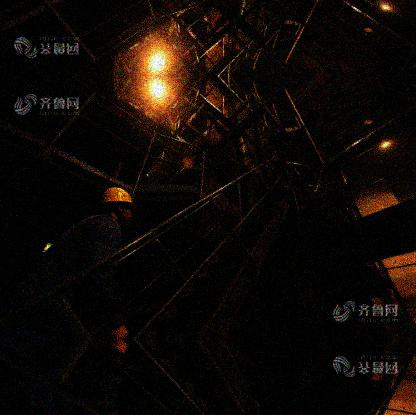helmet: (98, 186, 139, 228)
